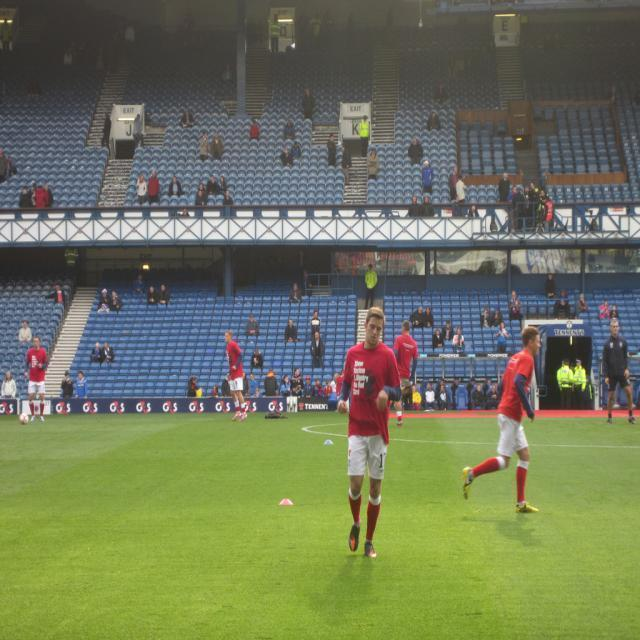ball: (19, 413, 29, 424)
